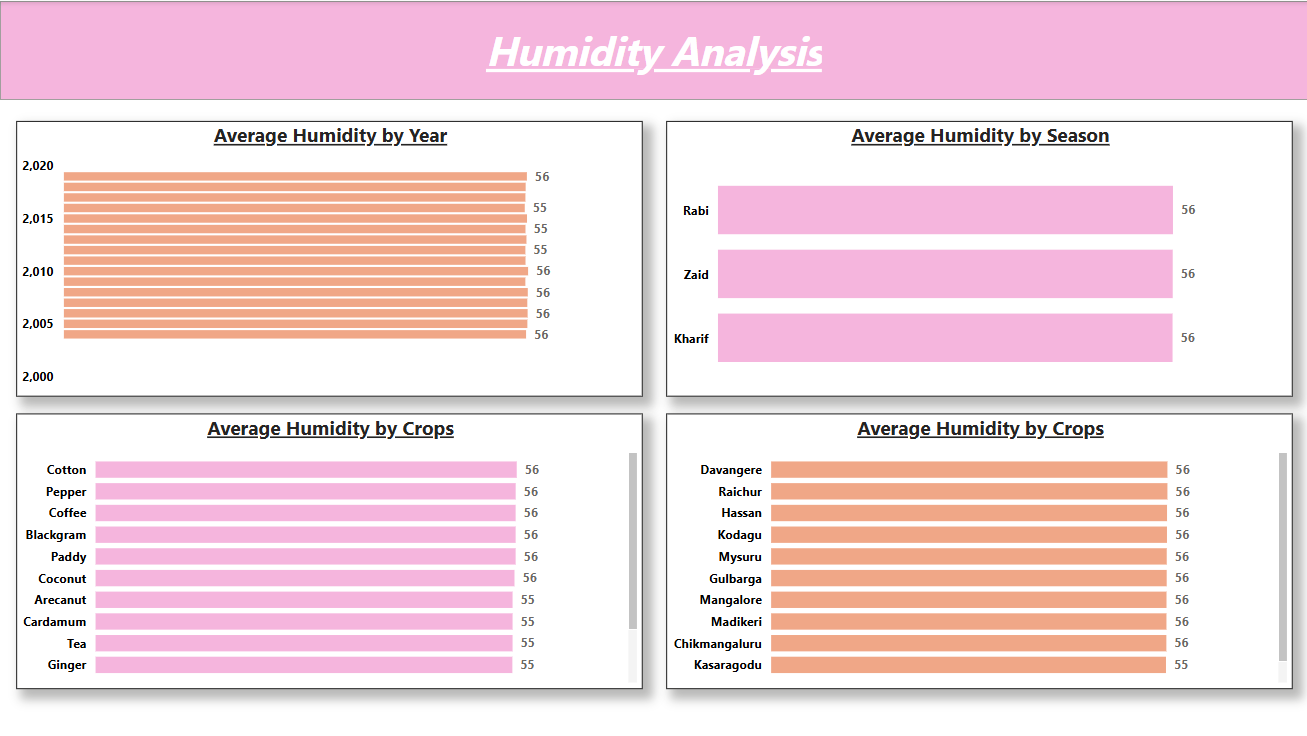

Layout of this report page (visuals, bound fields, positions):
{"tool":"powerbi","page":{"name":"Humidity   Analysis","canvas":[1280,720],"ordinal":2},"visuals":[{"type":"shape","box":[0,0,1279.7,96.7],"z":0},{"type":"barChart","title":"Average  Humidity by Year","fields":{"Category":["AGRICULTURE.YEAR"],"Y":["Avg(AGRICULTURE.HUMIDITY)"]},"box":[15.9,116.9,613.2,269.8],"z":1000},{"type":"barChart","title":"Average  Humidity by Season","fields":{"Category":["AGRICULTURE.SEASON"],"Y":["Avg(AGRICULTURE.HUMIDITY)"]},"box":[652.1,116.9,613.2,269.8],"z":2000},{"type":"barChart","title":"Average  Humidity by Crops","fields":{"Category":["AGRICULTURE.CROPS"],"Y":["Avg(AGRICULTURE.HUMIDITY)"]},"box":[15.9,404,613.2,269.8],"z":3000},{"type":"barChart","title":"Average  Humidity by Crops","fields":{"Category":["AGRICULTURE.LOCATION"],"Y":["Avg(AGRICULTURE.HUMIDITY)"]},"box":[652.1,404,613.2,269.8],"z":4000}]}

Visuals, with their boxes in screenshot pixels (x1, y1, x2, y2), scaled from the page's 1280x720 canvas onto the 1307x736 screenshot:
shape: <box>0,0,1306,99</box>
"Average  Humidity by Year" barChart: <box>16,119,642,395</box>
"Average  Humidity by Season" barChart: <box>666,119,1292,395</box>
"Average  Humidity by Crops" barChart: <box>16,413,642,689</box>
"Average  Humidity by Crops" barChart: <box>666,413,1292,689</box>
